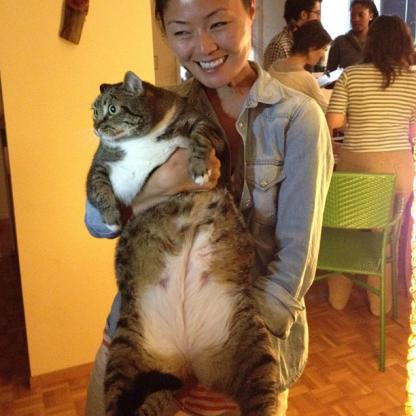Target: (79, 71, 290, 416)
